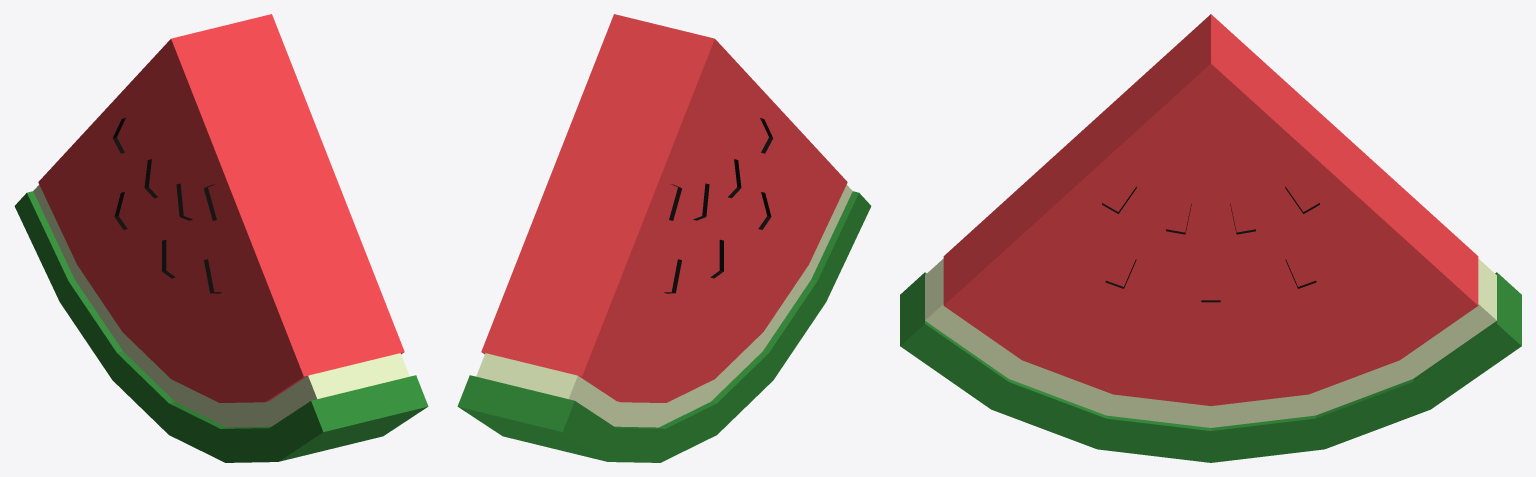
File: watermelon_slice.glb
3 views of the same model, side by side, from view 1: azimuth 30°, elevation 25°; view 2: azimuth 150°, elevation 25°; view 3: azimuth 270°, elevation 25° (orthographic).
Parts seen in each view (by area): view 1: watermelon_slice; view 2: watermelon_slice; view 3: watermelon_slice.
Part boxes in pixels (x1=…): watermelon_slice: x1=14, y1=14, x2=428, y2=462; watermelon_slice: x1=457, y1=14, x2=871, y2=462; watermelon_slice: x1=900, y1=14, x2=1521, y2=462.
Size of the model in its own units: 0.026 by 0.09 by 0.1273.
